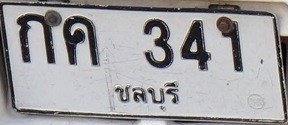txt01: (14, 12, 57, 66)
txt03: (60, 14, 101, 69)
